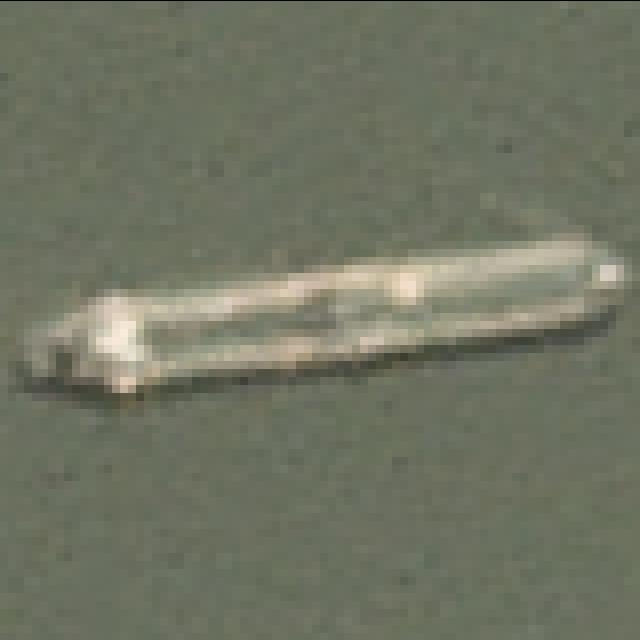ship: (12, 125, 640, 456)
